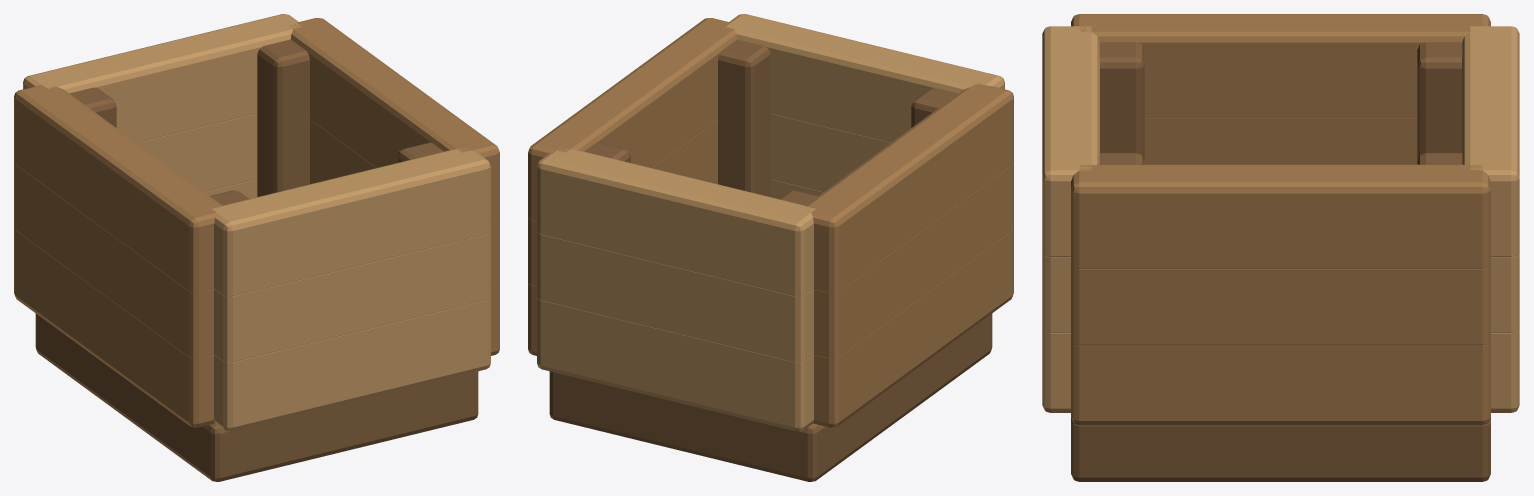
The model's file is SM_PlayerHouse_Storage_UpperStorageCrate.fbx.
3 views of the same model, side by side, from view 1: azimuth 30°, elevation 25°; view 2: azimuth 150°, elevation 25°; view 3: azimuth 270°, elevation 25° (orthographic). The views are drawn at different scales.
Parts seen in each view (by area): view 1: SM_PlayerHouse_Storage_UpperStorageCrate; view 2: SM_PlayerHouse_Storage_UpperStorageCrate; view 3: SM_PlayerHouse_Storage_UpperStorageCrate.
Part boxes in pixels (box(x1,y1,x2,y2)): SM_PlayerHouse_Storage_UpperStorageCrate: box(14, 14, 499, 481); SM_PlayerHouse_Storage_UpperStorageCrate: box(528, 14, 1013, 481); SM_PlayerHouse_Storage_UpperStorageCrate: box(1042, 14, 1519, 481).
Size of what is drawn, in the model's own units: 39.5 by 45.5 by 32.75.
